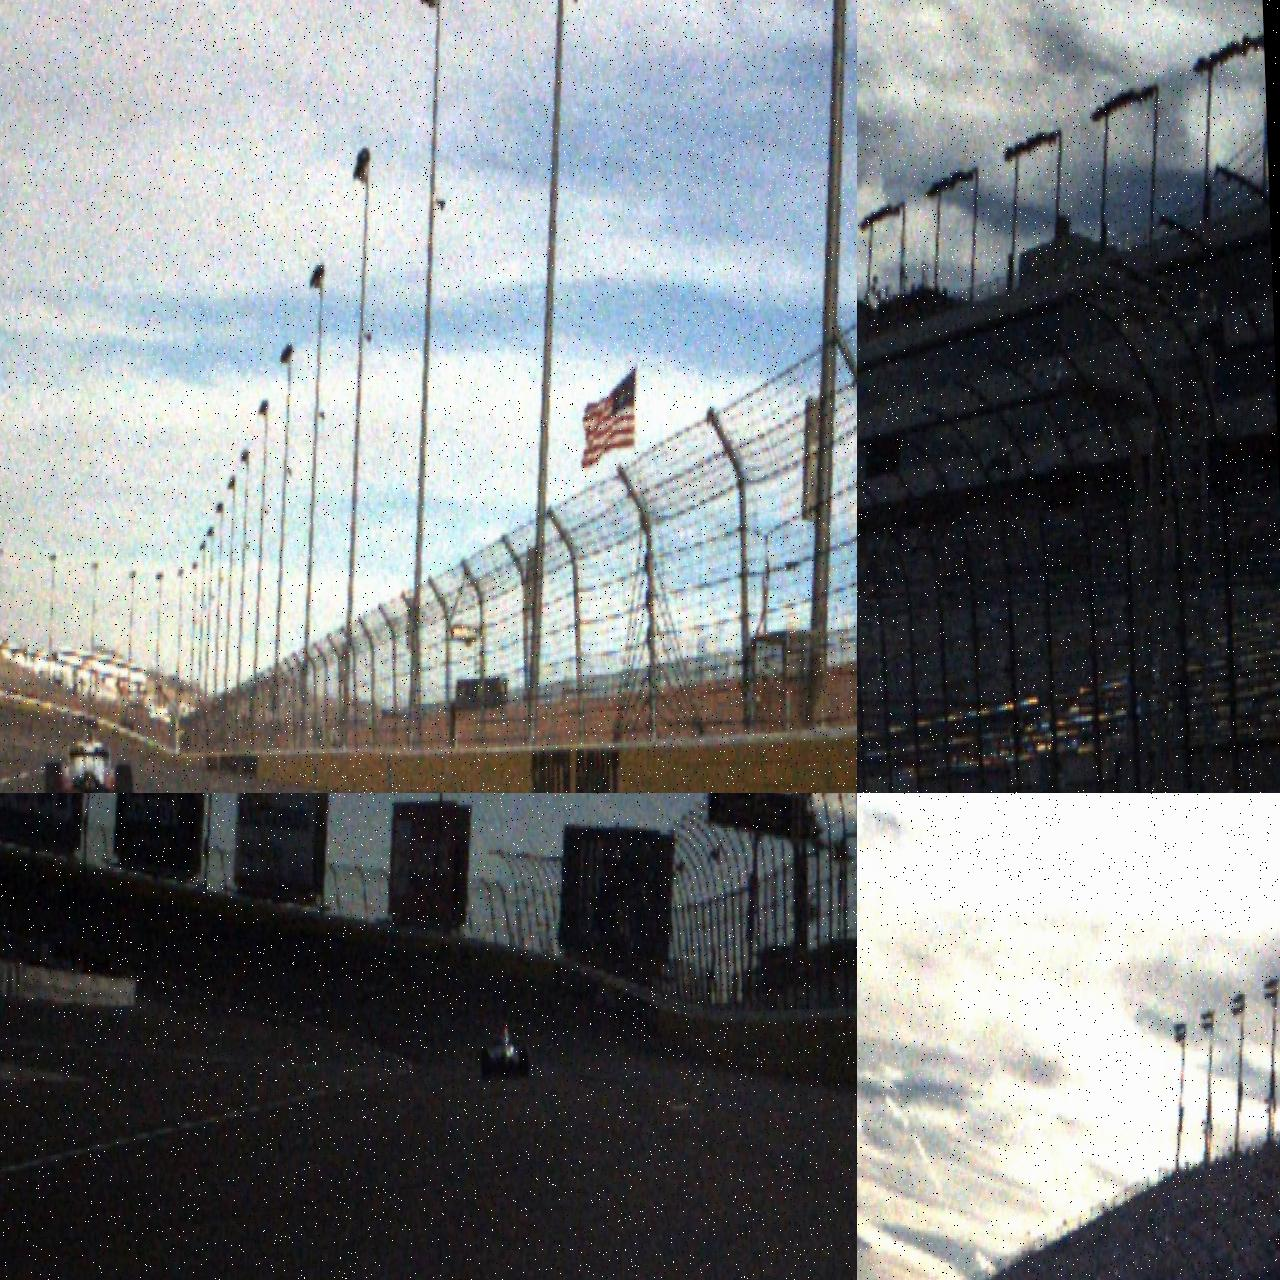AV: (41, 713, 134, 794), (478, 1016, 532, 1081)
Wheel: (43, 760, 62, 794), (114, 762, 132, 794), (517, 1044, 531, 1078), (479, 1047, 490, 1080)
